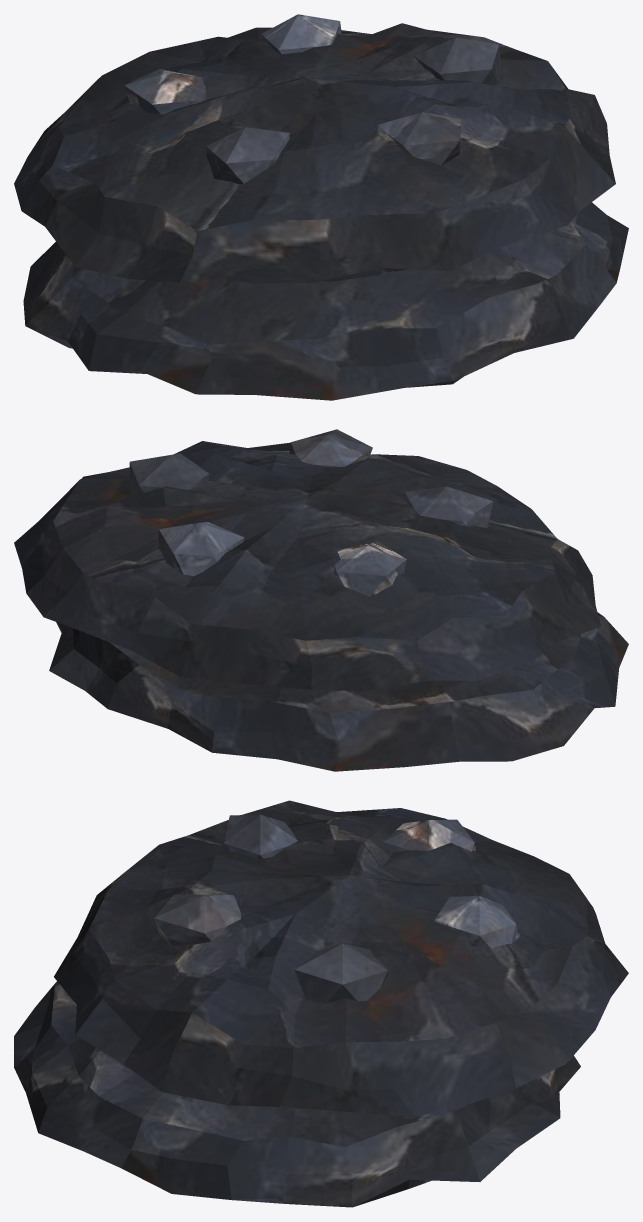
The model's file is ironshell_plate.glb.
3 renders of one model, top to bottom at view 1: azimuth 30°, elevation 25°; view 2: azimuth 150°, elevation 25°; view 3: azimuth 270°, elevation 25°, orthographic. The views are drawn at different scales.
Parts seen in each view (by area): view 1: model; view 2: model; view 3: model.
Boxes of the visible parts, bbox=[...] form: model: bbox=[14, 14, 628, 400]; model: bbox=[14, 429, 628, 771]; model: bbox=[14, 800, 628, 1207].
Size of the model in its own units: 0.2813 by 0.0965 by 0.2556.
Materials: 2 (2 with a texture image).
